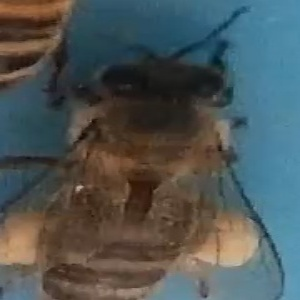bee: (72, 38, 290, 300), (2, 1, 65, 105)
